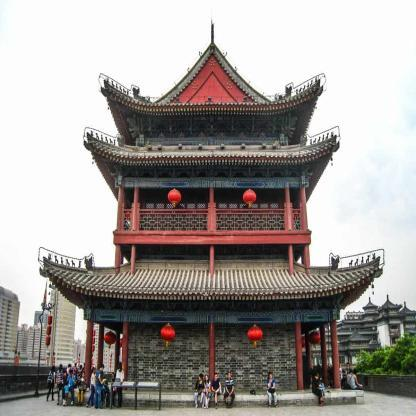Balcony: (123, 209, 302, 231)
Building Outline: (38, 18, 384, 408)
Dont: (85, 361, 161, 411), (46, 361, 87, 407), (194, 373, 235, 409), (339, 362, 364, 391), (311, 373, 325, 407), (266, 371, 278, 408), (160, 323, 176, 347), (247, 324, 263, 347), (243, 188, 257, 209), (167, 188, 181, 207), (104, 330, 116, 349), (308, 331, 321, 348)
Facade: (123, 103, 302, 408)
Floor Slab: (123, 235, 302, 244)
Ground Floor: (123, 244, 302, 392)
Pillar: (209, 187, 215, 392), (130, 187, 139, 275), (300, 187, 310, 266), (285, 188, 294, 275), (114, 187, 123, 274), (330, 320, 340, 388), (84, 320, 94, 387), (295, 322, 304, 391), (121, 322, 128, 391)
Roof: (101, 42, 323, 146), (39, 256, 383, 310), (83, 132, 339, 204)
Top Floor: (123, 113, 302, 236)
